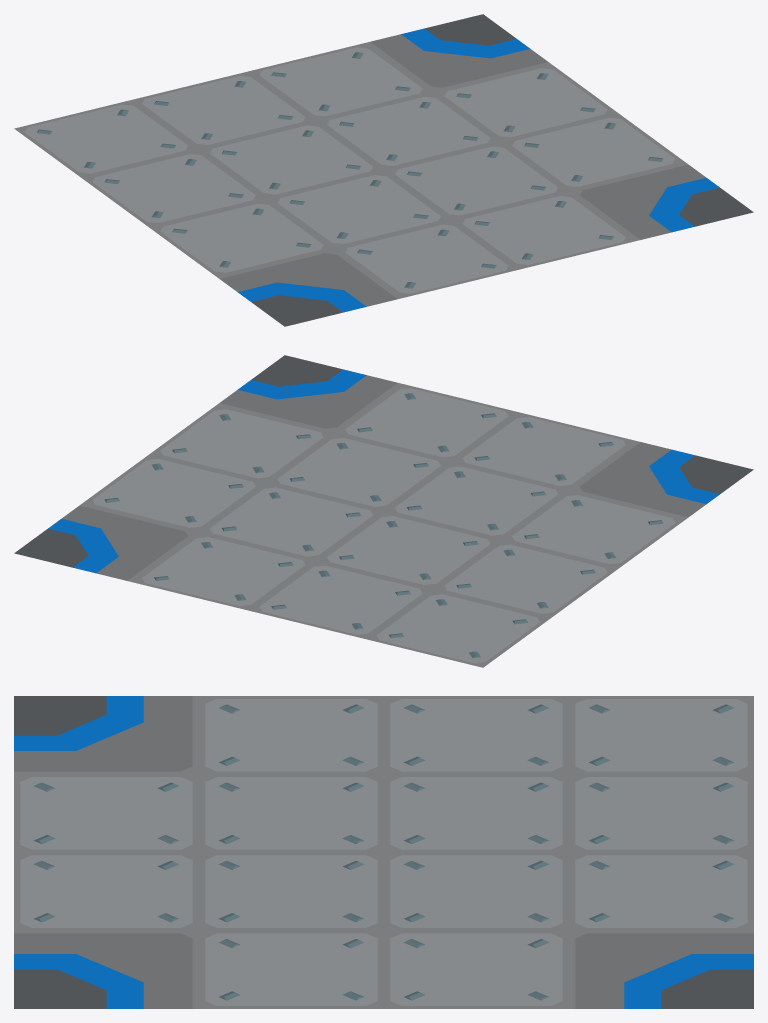
The model's file is Floor_type_B_011.glb.
The picture shows the model from 3 angles, top to bottom: view 1: azimuth 30°, elevation 25°; view 2: azimuth 150°, elevation 25°; view 3: azimuth 270°, elevation 25°; orthographic projection. The views are drawn at different scales.
Visible parts, largest first — view 1: Floor_type_B_011; view 2: Floor_type_B_011; view 3: Floor_type_B_011.
Part boxes in pixels (x1,y1,x2,y2): Floor_type_B_011: [14, 14, 753, 326]; Floor_type_B_011: [14, 355, 753, 667]; Floor_type_B_011: [14, 696, 753, 1008].
Size of the model in its own units: 4 by 0.008 by 4.
Materials: 2 (2 with a texture image).
